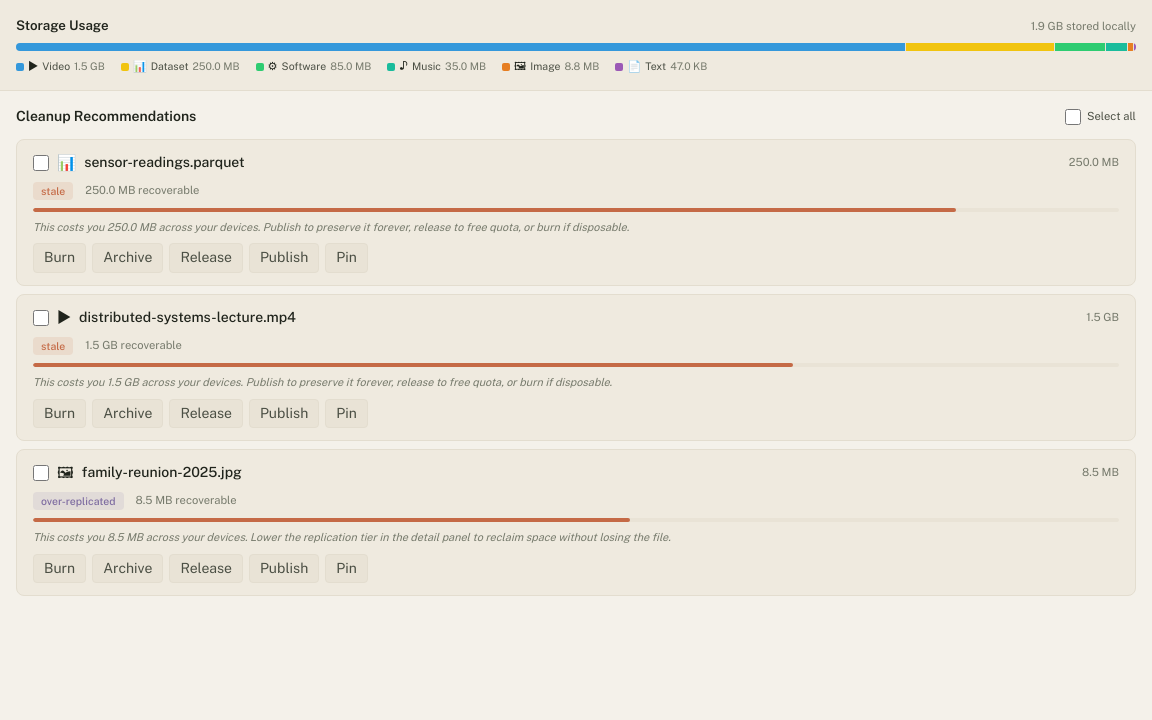
Test case: CleanupView › shows bulk action bar when items are selected
Note: checkboxes[0] is select-all, checkboxes[1] is first card
Click the checkbox named "Select sensor-readings.parquet" at (41, 163), box 33,155 -> 49,171
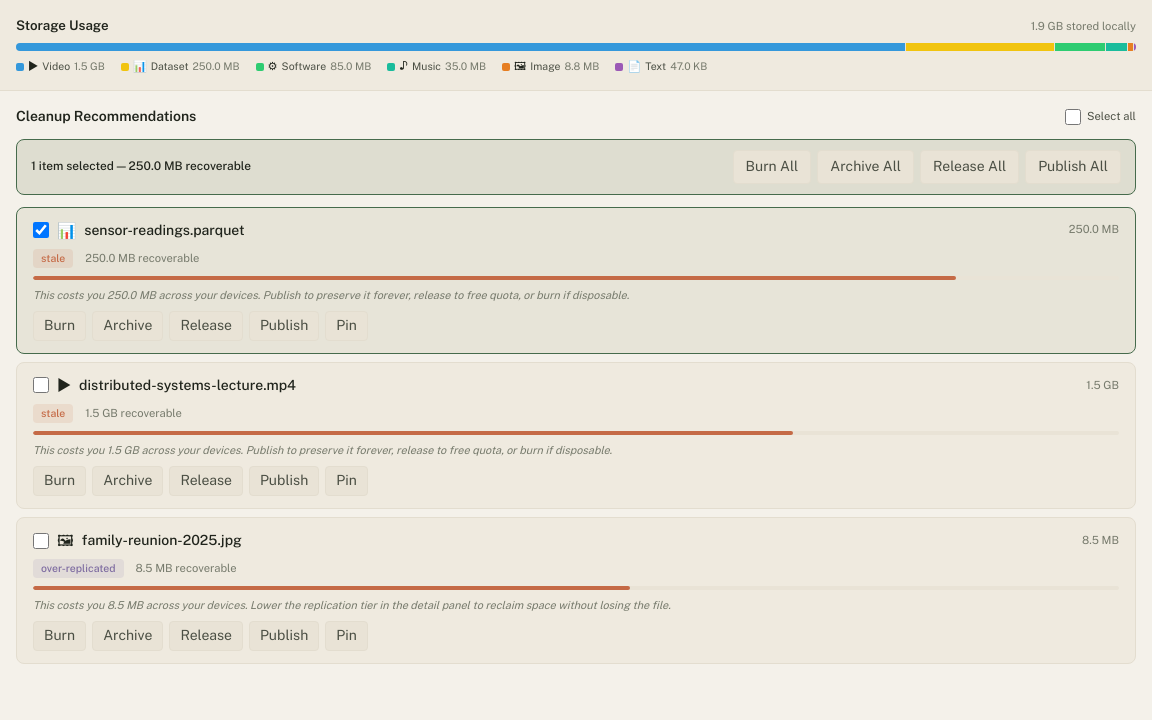
Now the text "1 item selected — 250.0 MB recoverable" is shown, box 31,158 -> 251,175
